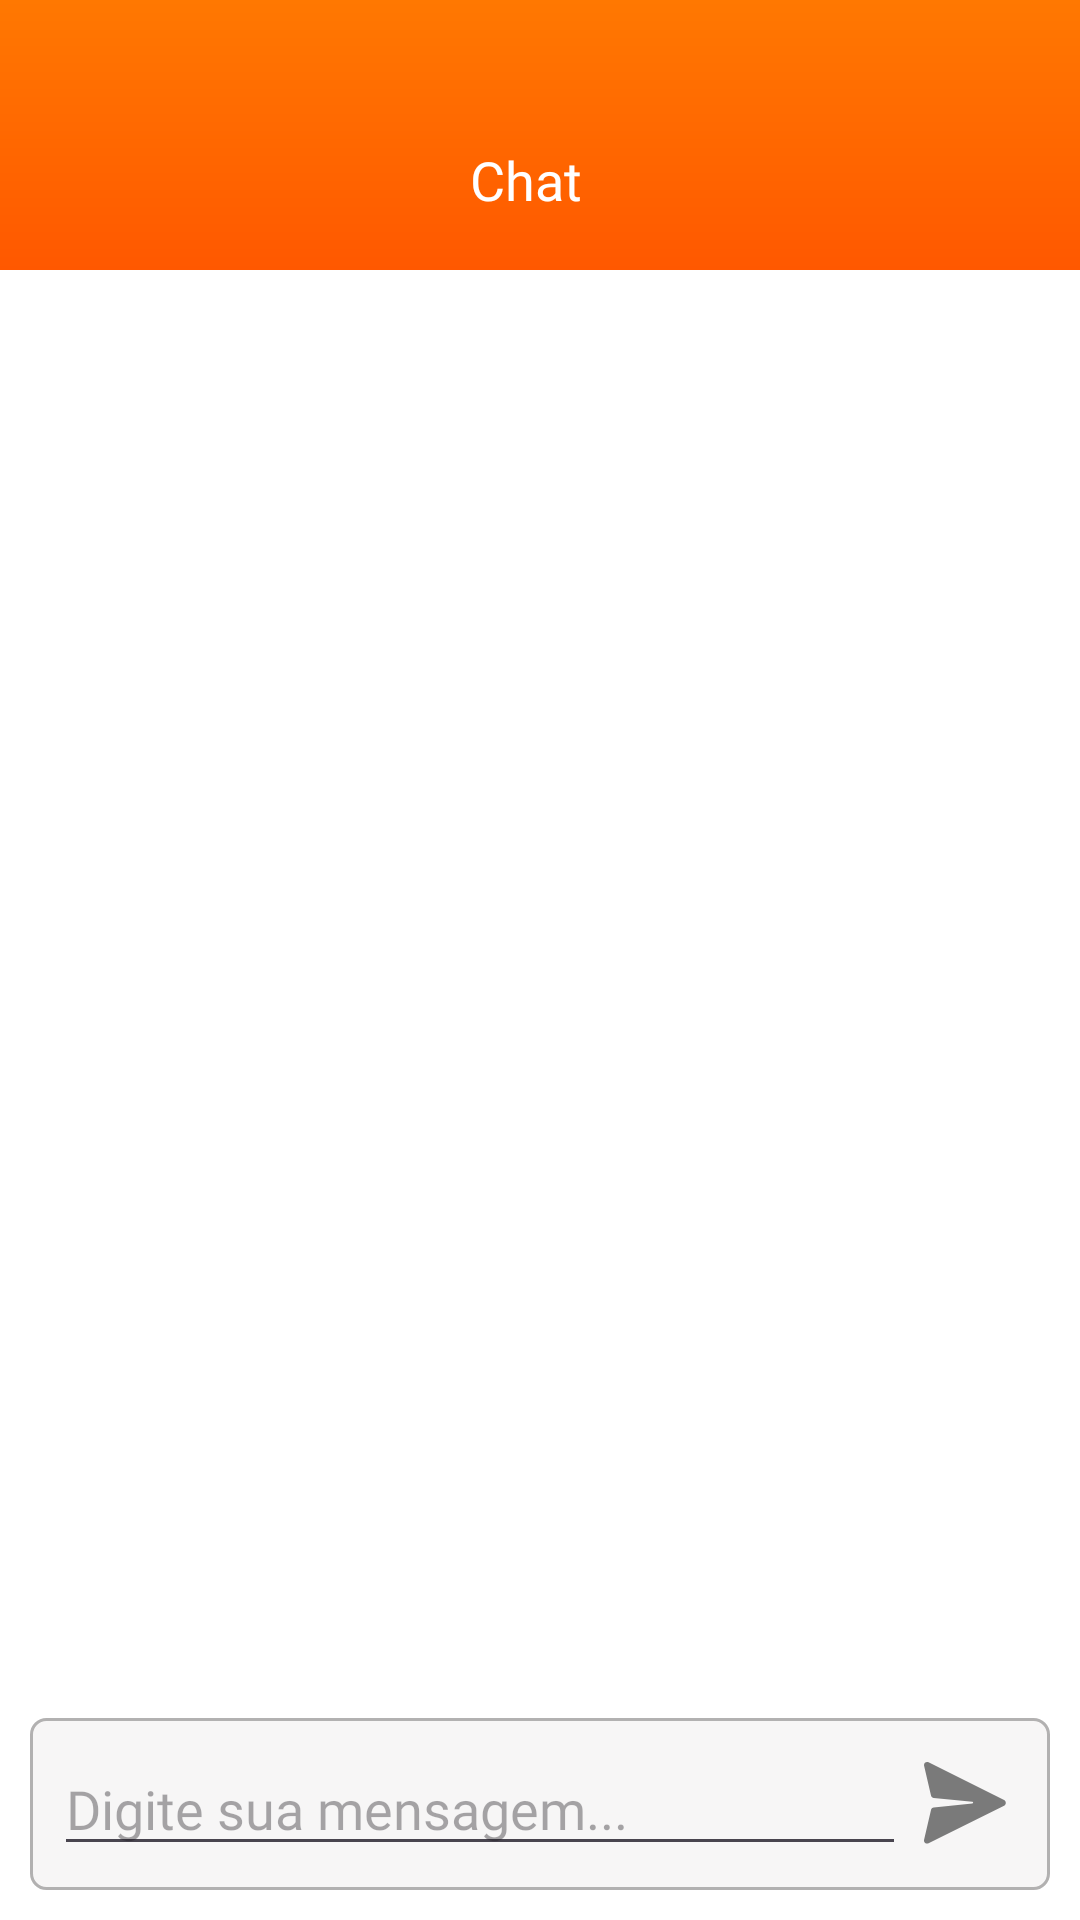

Named icons in this screenshot (1080 × 1920) and their centers, (x,y):
Icone para enviar a mensagem: (965,1803)
